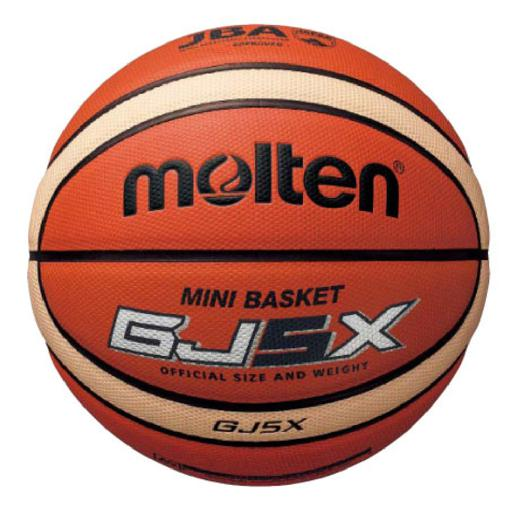ball: (29, 23, 489, 486)
